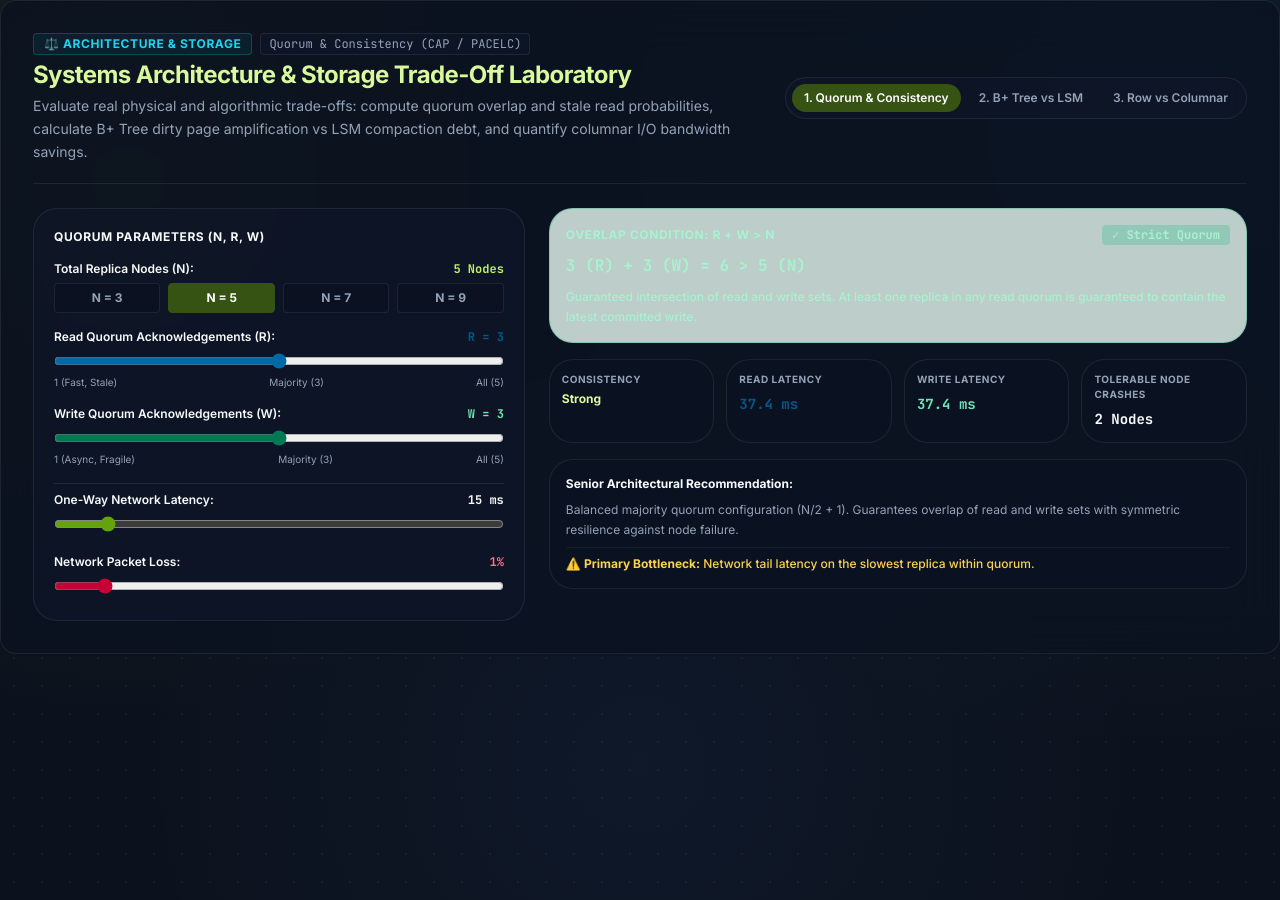
Test: ArchitectureTradeoffSandbox Component › switches to Row vs Columnar module and calculates scan volume speedup
The width and height of the screenshot is (1280, 900).
What coordinates should you click on to do the following:
click the button "3. Row vs Columnar"
I would click on:
 (1170, 98)
Its box is [1101,84,1240,112].
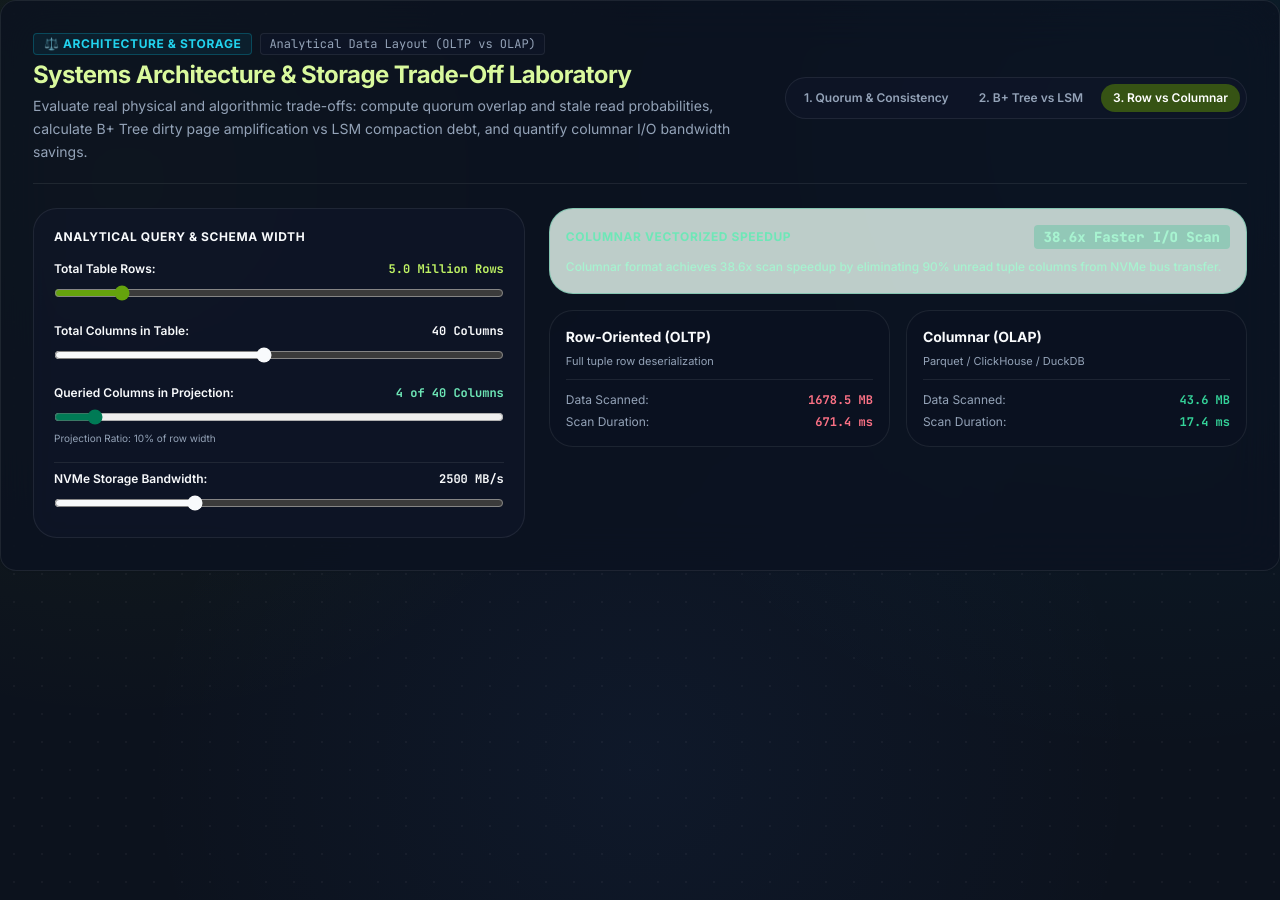
expect the heading "Analytical Query & Schema Width" is shown: met, box [54,229,305,244]
expect the text "Columnar Vectorized Speedup" is shown: met, box [566,229,791,245]
expect the text "Row-Oriented (OLTP)" is shown: met, box [566,328,711,345]
